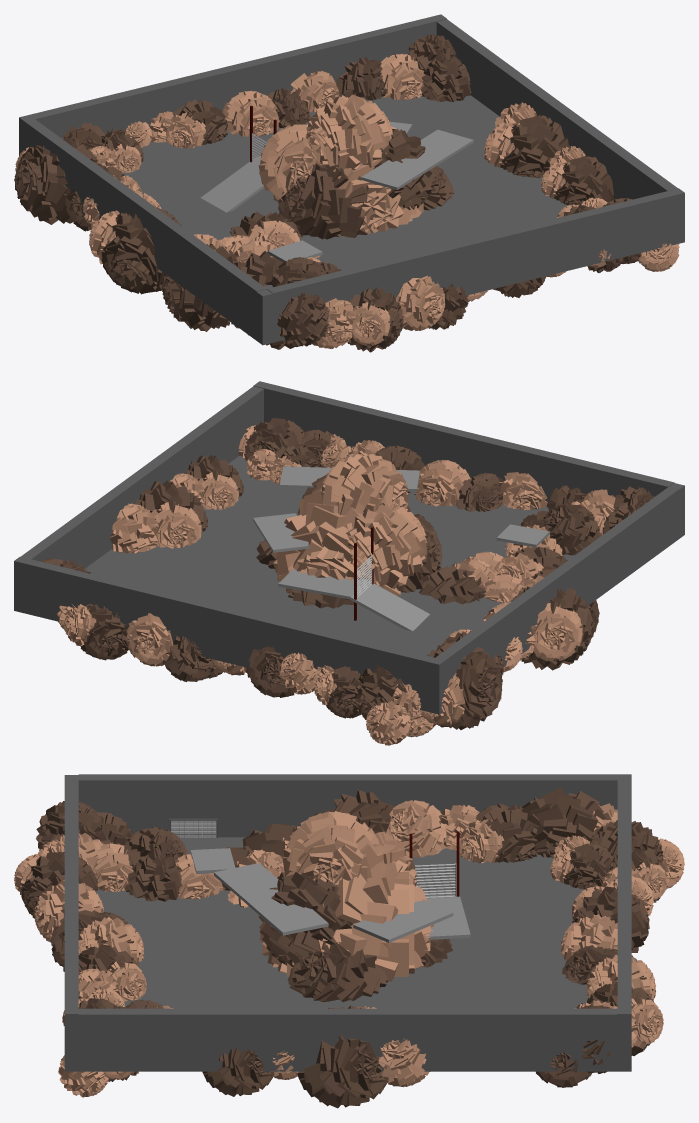
Rendered from Scrap Yard V3.fbx.
3 renders of one model, top to bottom at view 1: azimuth 30°, elevation 25°; view 2: azimuth 150°, elevation 25°; view 3: azimuth 270°, elevation 25°, orthographic. The views are drawn at different scales.
Visible parts, largest first — view 1: Base, Cube.006, Cube.011, Cube.001, Cube.023, Cube.014, Cube.013, Cube.022, Cube.015, Cube.008, Cube.005, Cube.012 (+15 smaller); view 2: Base, Cube.006, Cube.023, Cube.013, Cube.001, Cube.003, Cube.009, Cube.016, Cube.010, Cube.029, Cube.005, Cube.030 (+17 smaller); view 3: Base, Cube.006, Cube.023, Cube.030, Cube.002, Cube.001, Cube.013, Cube.024, Cube.012, Cube.019, Cube.005, Cube.008 (+20 smaller).
Part boxes in pixels (<box>): Base: <box>19,14,684,345</box>; Cube.006: <box>258,95,453,239</box>; Cube.011: <box>380,34,471,101</box>; Cube.001: <box>89,191,181,294</box>; Cube.023: <box>483,102,569,178</box>; Cube.014: <box>326,287,403,352</box>; Cube.013: <box>14,137,99,224</box>; Cube.022: <box>541,146,613,205</box>; Cube.015: <box>395,275,468,330</box>; Cube.008: <box>222,90,310,136</box>; Cube.005: <box>150,99,227,148</box>; Cube.012: <box>266,292,349,349</box>; Base: <box>14,381,684,714</box>; Cube.006: <box>256,454,442,608</box>; Cube.023: <box>110,480,207,553</box>; Cube.013: <box>407,641,502,737</box>; Cube.001: <box>483,586,593,670</box>; Cube.003: <box>356,665,422,745</box>; Cube.009: <box>126,613,212,681</box>; Cube.016: <box>414,460,502,511</box>; Cube.010: <box>57,603,128,660</box>; Cube.029: <box>419,558,519,604</box>; Cube.005: <box>246,646,316,697</box>; Cube.030: <box>520,500,605,555</box>; Base: <box>64,774,631,1071</box>; Cube.006: <box>258,811,452,1002</box>; Cube.023: <box>297,1005,430,1108</box>; Cube.030: <box>90,827,187,901</box>; Cube.002: <box>441,803,537,863</box>; Cube.001: <box>315,790,446,857</box>; Cube.013: <box>522,786,617,857</box>; Cube.024: <box>214,863,328,935</box>; Cube.012: <box>36,801,132,866</box>; Cube.019: <box>78,944,146,1001</box>; Cube.005: <box>572,876,653,952</box>; Cube.008: <box>560,914,617,985</box>.
Size of the model in its own units: 35456 by 12561 by 37799.
